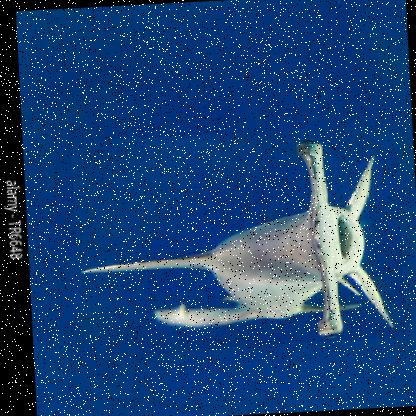hammerhead_Shark: (69, 123, 406, 354)
